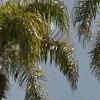Tree: (5, 0, 80, 86)
